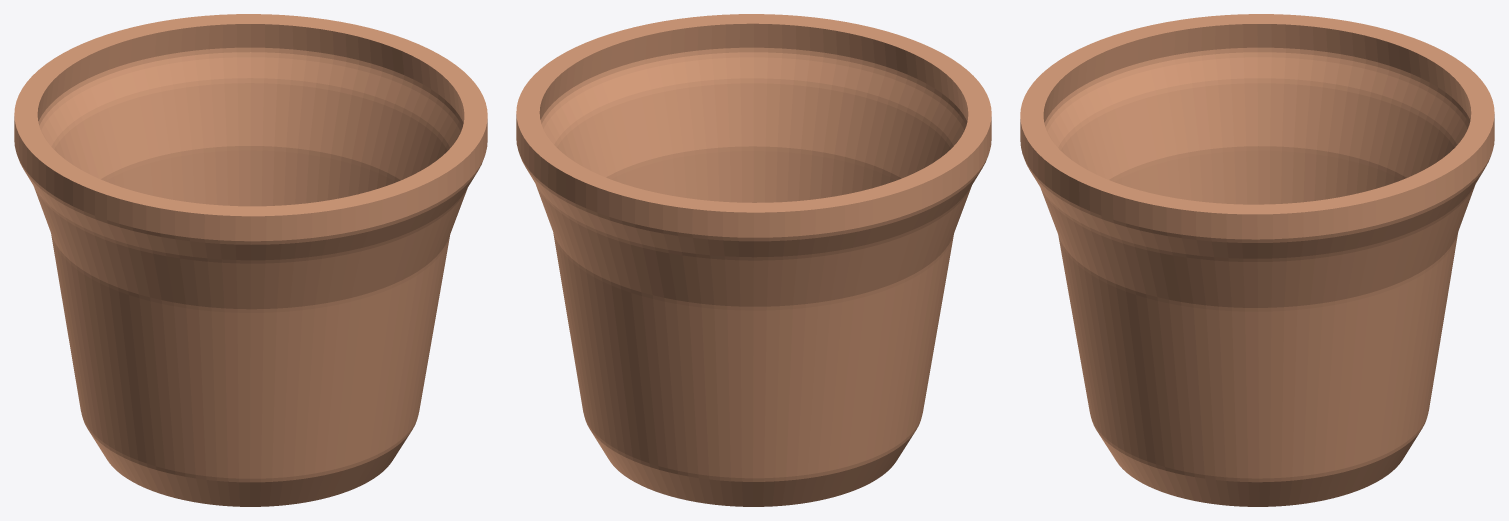
The model's file is Pot_01_Classic_Herb.glb.
3 renders of one model, left to right at view 1: azimuth 30°, elevation 25°; view 2: azimuth 150°, elevation 25°; view 3: azimuth 270°, elevation 25°, orthographic.
Visible parts, largest first — view 1: Pot_01_Classic_Herb; view 2: Pot_01_Classic_Herb; view 3: Pot_01_Classic_Herb.
Boxes of the visible parts, box(x1,y1,x2,y2) form: Pot_01_Classic_Herb: box(14, 14, 487, 506); Pot_01_Classic_Herb: box(516, 14, 991, 506); Pot_01_Classic_Herb: box(1020, 14, 1494, 506).
Bounding box in the file's own units: 0.224 × 0.1731 × 0.2241.
